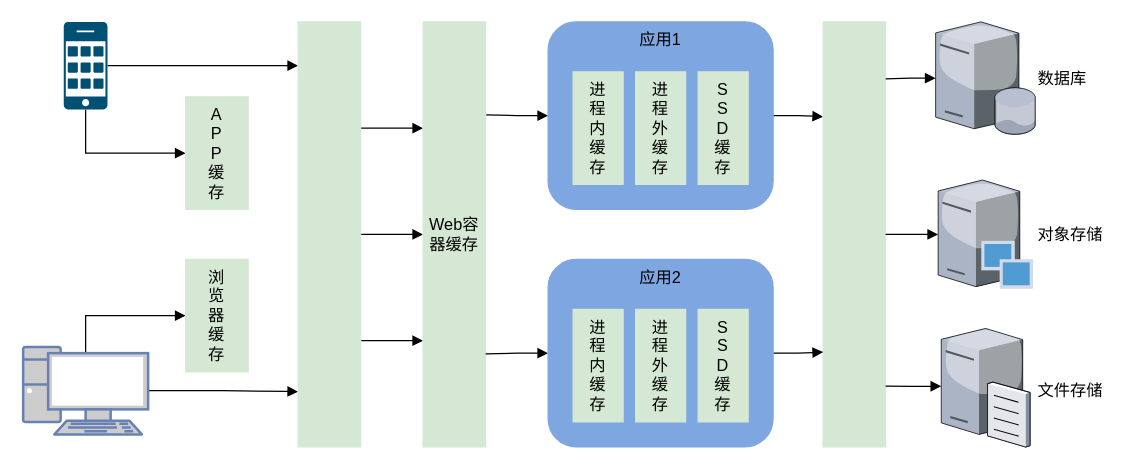
Image size: 1131x469. Some labels were removed from this diagram. Here are the shapes that lost their labels. From the top down, the centre of each, then its label:
At point 329,234: "CDN".
At point 854,234: "分布式 缓存".
